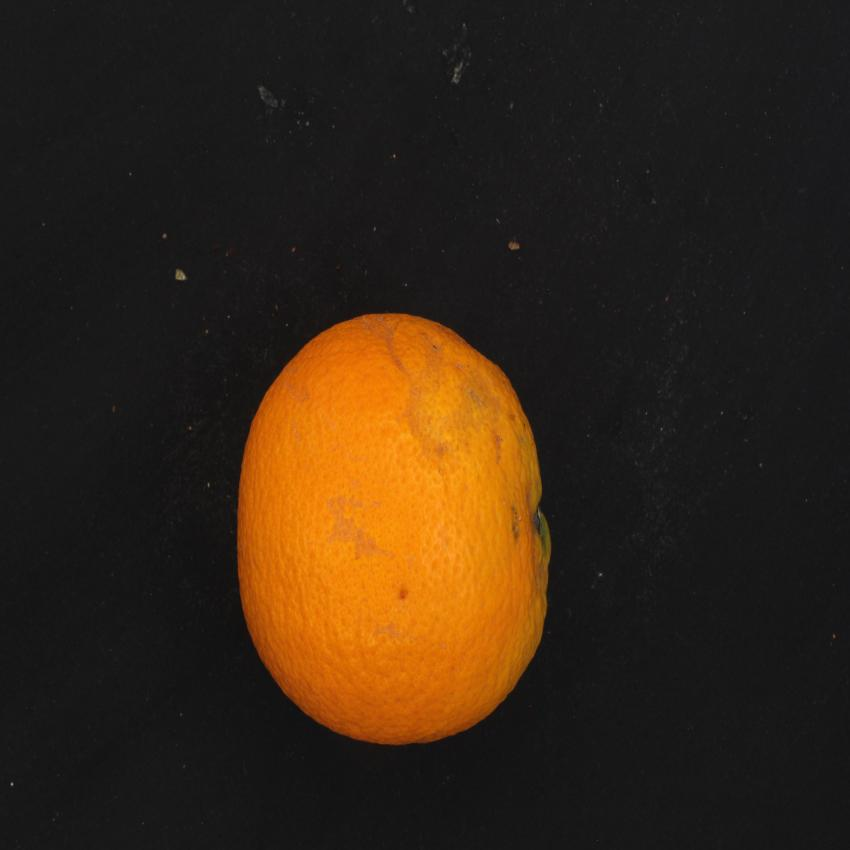Buen estado: (225, 305, 564, 754)
